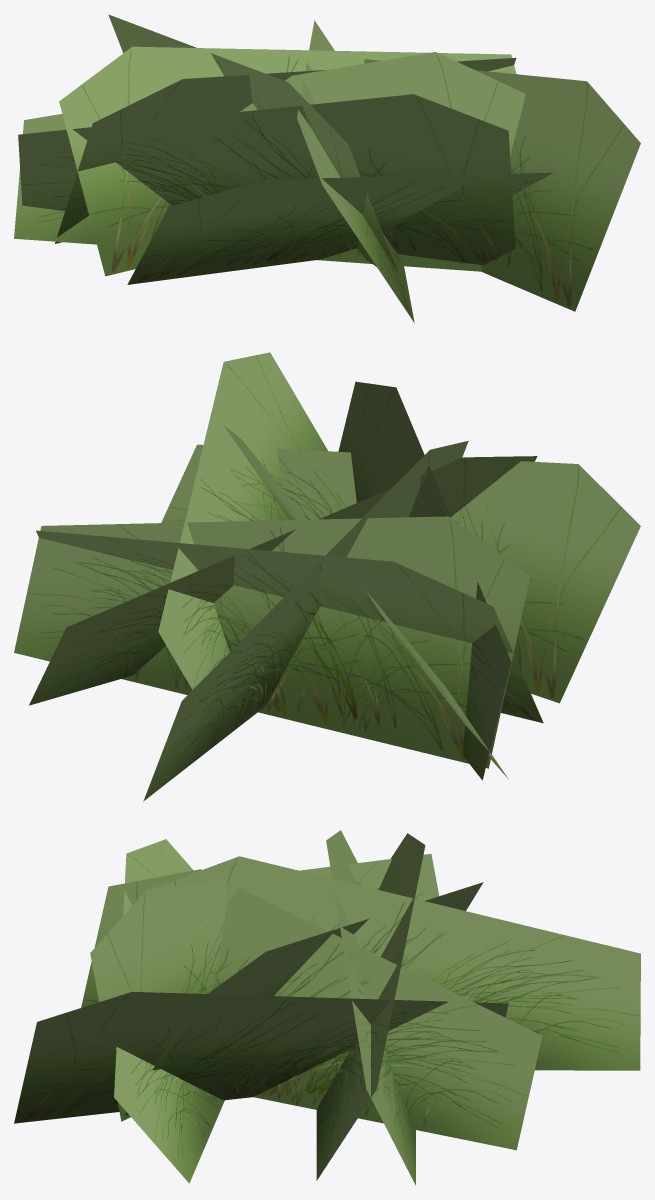
The model's file is grass_mesh_08.fbx.
The picture shows the model from 3 angles, top to bottom: view 1: azimuth 30°, elevation 25°; view 2: azimuth 150°, elevation 25°; view 3: azimuth 270°, elevation 25°; orthographic projection. The views are drawn at different scales.
Visible parts, largest first — view 1: Polygon_2; view 2: Polygon_2; view 3: Polygon_2.
Boxes of the visible parts, <box> form: Polygon_2: <box>14,14,640,322</box>; Polygon_2: <box>14,352,640,801</box>; Polygon_2: <box>14,830,640,1185</box>.
Bounding box in the file's own units: 248 × 99.69 × 294.
1 material, 1 textured.
